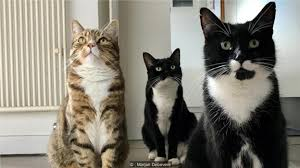cat: (192, 2, 290, 88), (65, 18, 125, 73), (137, 49, 190, 95)
